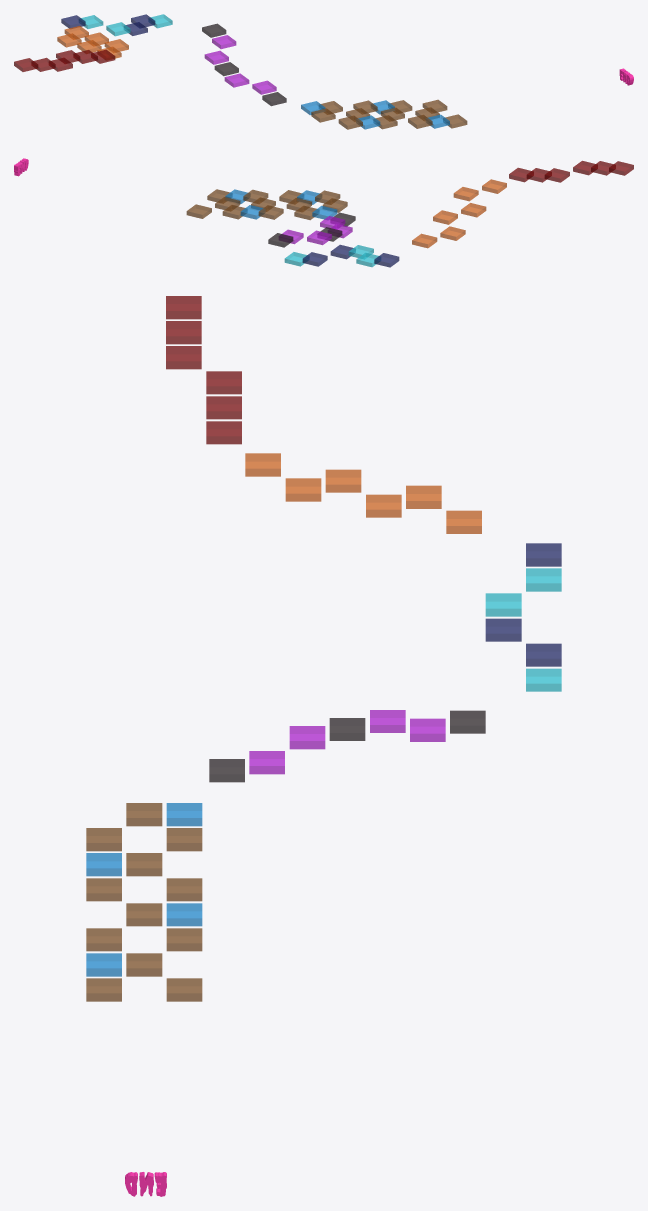
File: pattern maze_desc.glb
3 renders of one model, top to bottom at view 1: azimuth 30°, elevation 25°; view 2: azimuth 150°, elevation 25°; view 3: azimuth 270°, elevation 25°, orthographic. The views are drawn at different scales.
Parts seen in each view (by area): view 1: Cube.001_Passable.004, Cube.003_passable, Cube.013_passable, Cube.007_passable, Cube.022_passable, Cube.008_Passable, Cube.001_Passable.006, Cube.001_Passable.012, Cube.001_passable, Cube.001_Passable.003, Cube.019_Passable, Cube.014_passable.001 (+29 smaller); view 2: Cube.014_Passable, Cube.018_Passable, Cube.001_passable.001, Cube.023_Passable, Cube.019_Passable.001, Cube.002_Passable, Cube.001_Passable.006, Cube.001_Passable, Cube.001.001_Passable, Cube.001_passable.003, Cube.008_Passable, Cube.009_Passable (+30 smaller); view 3: no part large enough to name.
Part boxes in pixels (x1=…): Cube.001_Passable.004: x1=224, y1=73, x2=249, y2=87; Cube.003_passable: x1=252, y1=80, x2=276, y2=94; Cube.013_passable: x1=212, y1=35, x2=236, y2=49; Cube.007_passable: x1=408, y1=114, x2=432, y2=128; Cube.022_passable: x1=262, y1=92, x2=286, y2=106; Cube.008_Passable: x1=204, y1=50, x2=228, y2=64; Cube.001_Passable.006: x1=202, y1=23, x2=226, y2=37; Cube.001_Passable.012: x1=106, y1=22, x2=130, y2=36; Cube.001_passable: x1=338, y1=115, x2=362, y2=129; Cube.001_Passable.003: x1=214, y1=62, x2=238, y2=76; Cube.019_Passable: x1=14, y1=58, x2=38, y2=71; Cube.014_passable.001: x1=311, y1=108, x2=335, y2=122; Cube.014_Passable: x1=374, y1=253, x2=399, y2=267; Cube.018_Passable: x1=453, y1=187, x2=478, y2=201; Cube.001_passable.001: x1=258, y1=205, x2=283, y2=219; Cube.023_Passable: x1=440, y1=226, x2=465, y2=240; Cube.019_Passable.001: x1=461, y1=203, x2=486, y2=217; Cube.002_Passable: x1=544, y1=168, x2=569, y2=182; Cube.001_Passable.006: x1=268, y1=233, x2=293, y2=247; Cube.001_Passable: x1=412, y1=233, x2=437, y2=248; Cube.001.001_Passable: x1=433, y1=210, x2=457, y2=224; Cube.001_passable.003: x1=186, y1=204, x2=211, y2=218; Cube.008_Passable: x1=307, y1=230, x2=331, y2=245; Cube.009_Passable: x1=302, y1=252, x2=327, y2=266.
Size of what is drawn, in the model's own units: 156 by 38.9 by 53.28.
2 materials, 1 textured.
